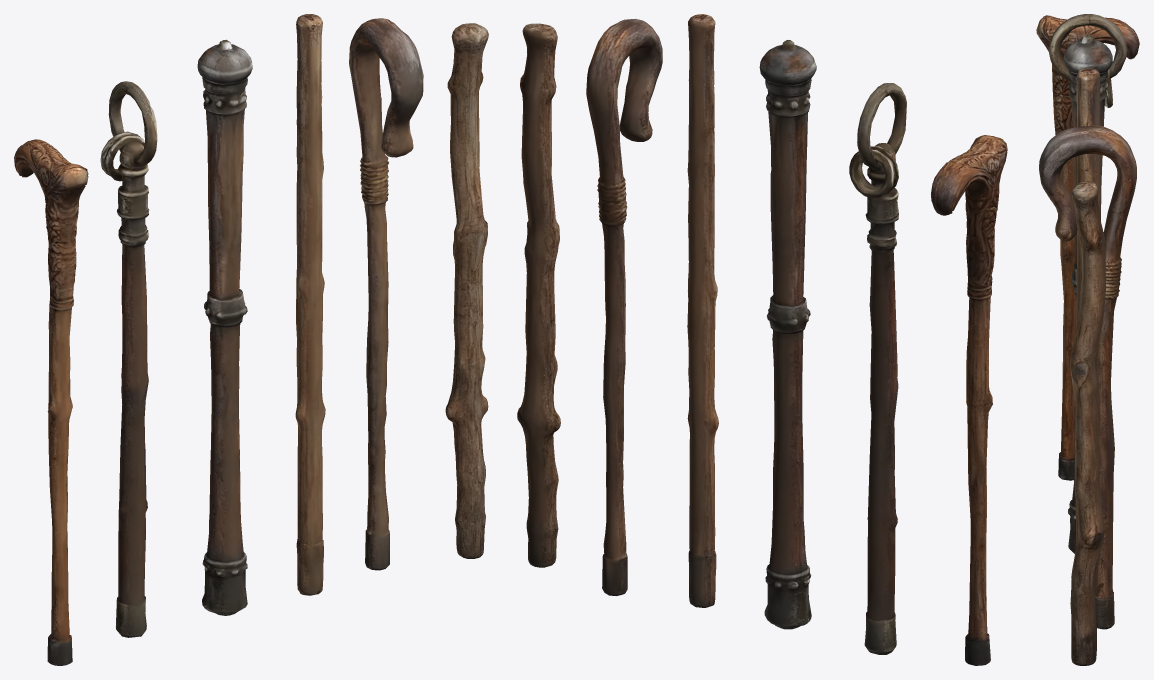
The model's file is weapons_staffs_basic.glb.
The picture shows the model from 3 angles, left to right: view 1: azimuth 30°, elevation 25°; view 2: azimuth 150°, elevation 25°; view 3: azimuth 270°, elevation 25°; orthographic projection. The views are drawn at different scales.
Visible parts, largest first — view 1: staff_ironshod, staff_crook, staff_walking, staff_monk, staff_quarter, staff_cane; view 2: staff_ironshod, staff_crook, staff_walking, staff_monk, staff_quarter, staff_cane; view 3: staff_walking, staff_crook, staff_cane, staff_ironshod, staff_quarter, staff_monk.
Boxes of the visible parts, box(x1,y1,x2,y2) form: staff_ironshod: box(197, 39, 252, 615); staff_crook: box(349, 18, 423, 570); staff_walking: box(445, 23, 488, 558); staff_monk: box(100, 81, 157, 637); staff_quarter: box(295, 14, 325, 595); staff_cane: box(14, 139, 88, 665); staff_ironshod: box(759, 40, 816, 629); staff_crook: box(586, 18, 662, 595); staff_walking: box(517, 23, 560, 567); staff_monk: box(849, 83, 906, 654); staff_quarter: box(687, 14, 718, 607); staff_cane: box(931, 135, 1007, 665); staff_walking: box(1070, 181, 1105, 665); staff_crook: box(1039, 125, 1136, 629); staff_cane: box(1036, 15, 1139, 480); staff_ironshod: box(1063, 34, 1112, 553); staff_quarter: box(1075, 68, 1100, 549); staff_monk: box(1049, 14, 1126, 295).
Bounding box in the file's own units: 0.5913 × 0.7159 × 0.1285.
1 material, 1 textured.
